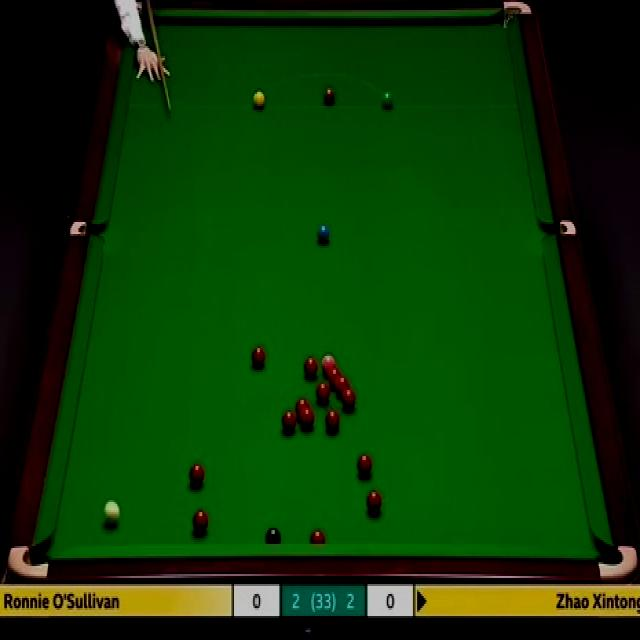pocket: (598, 537, 640, 583), (8, 544, 51, 578), (501, 1, 535, 30), (70, 219, 104, 244), (541, 221, 576, 244)
